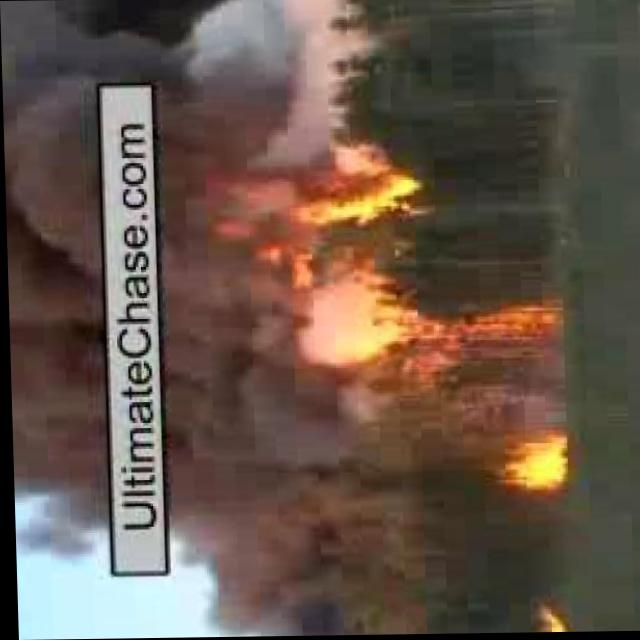Fire: (246, 142, 418, 249), (409, 286, 563, 366), (501, 432, 570, 487), (529, 605, 569, 634)
